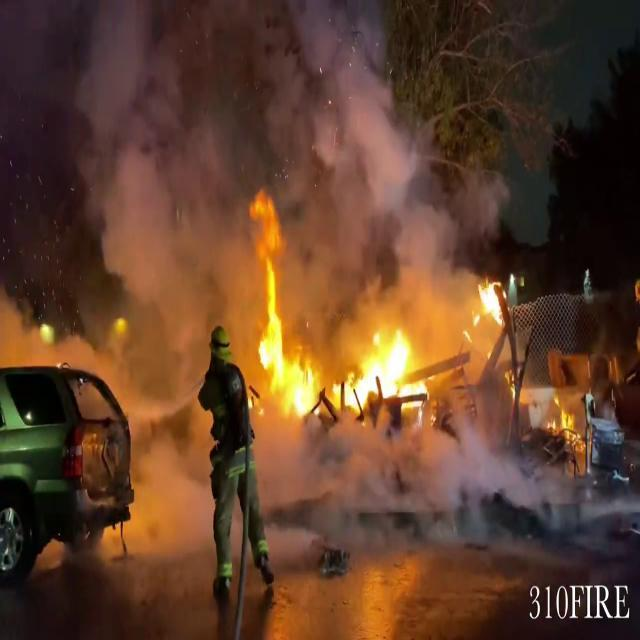Fire: (240, 192, 443, 426), (473, 274, 511, 329)
Smoke: (23, 0, 474, 312)
